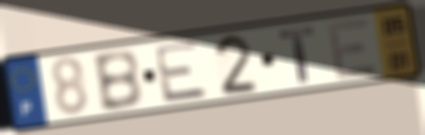2: (212, 32, 261, 99)
8: (47, 55, 90, 120)
B: (89, 47, 146, 115)
E: (152, 38, 212, 105), (325, 15, 381, 83)
T: (276, 24, 317, 85)
